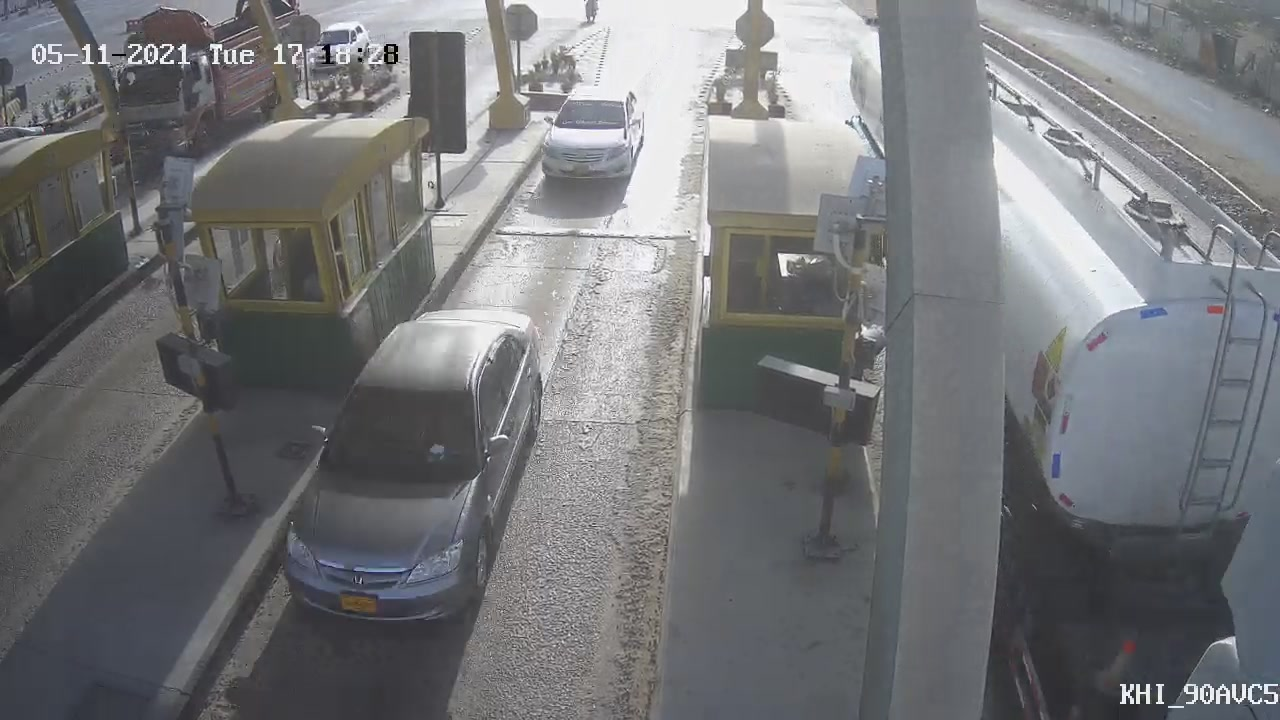F1: (516, 68, 659, 200)
